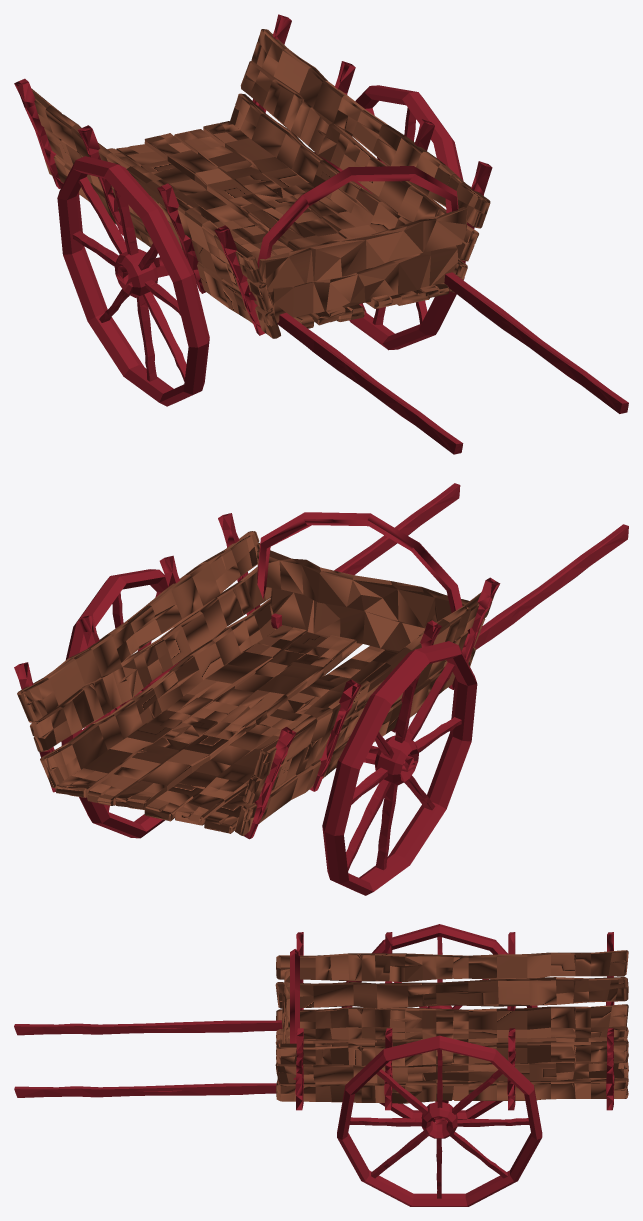
The model's file is CartAssetDef.fbx.
3 views of the same model, one above another, from view 1: azimuth 30°, elevation 25°; view 2: azimuth 150°, elevation 25°; view 3: azimuth 270°, elevation 25° (orthographic). The views are drawn at different scales.
Visible parts, largest first — view 1: Carro, Weel1, Weel2, DriveStick1, DriveStick2; view 2: Carro, Weel1, Weel2, DriveStick1, DriveStick2; view 3: Carro, Weel2, DriveStick1, DriveStick2, Weel1.
Boxes of the visible parts, left/top/right/bottom form: Carro: left=14, top=14, right=492, bottom=338; Weel1: left=57, top=156, right=209, bottom=406; Weel2: left=328, top=85, right=465, bottom=350; DriveStick1: left=277, top=312, right=463, bottom=454; DriveStick2: left=444, top=272, right=628, bottom=413; Carro: left=14, top=512, right=500, bottom=839; Weel1: left=322, top=641, right=477, bottom=895; Weel2: left=61, top=569, right=180, bottom=838; DriveStick1: left=474, top=524, right=628, bottom=649; DriveStick2: left=271, top=483, right=460, bottom=628; Carro: left=275, top=932, right=628, bottom=1124; Weel2: left=337, top=1035, right=542, bottom=1206; DriveStick1: left=14, top=1020, right=282, bottom=1035; DriveStick2: left=14, top=1083, right=276, bottom=1097; Weel1: left=341, top=924, right=537, bottom=1122.
Size of the model in its own units: 522 by 418 by 1124.
